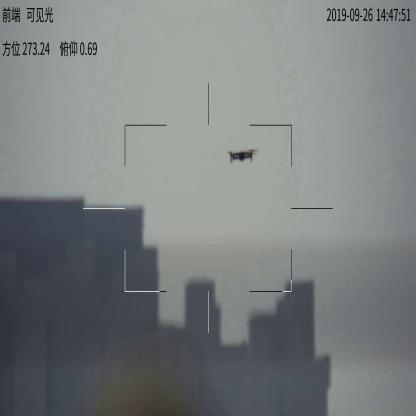uav: (227, 147, 259, 165)
